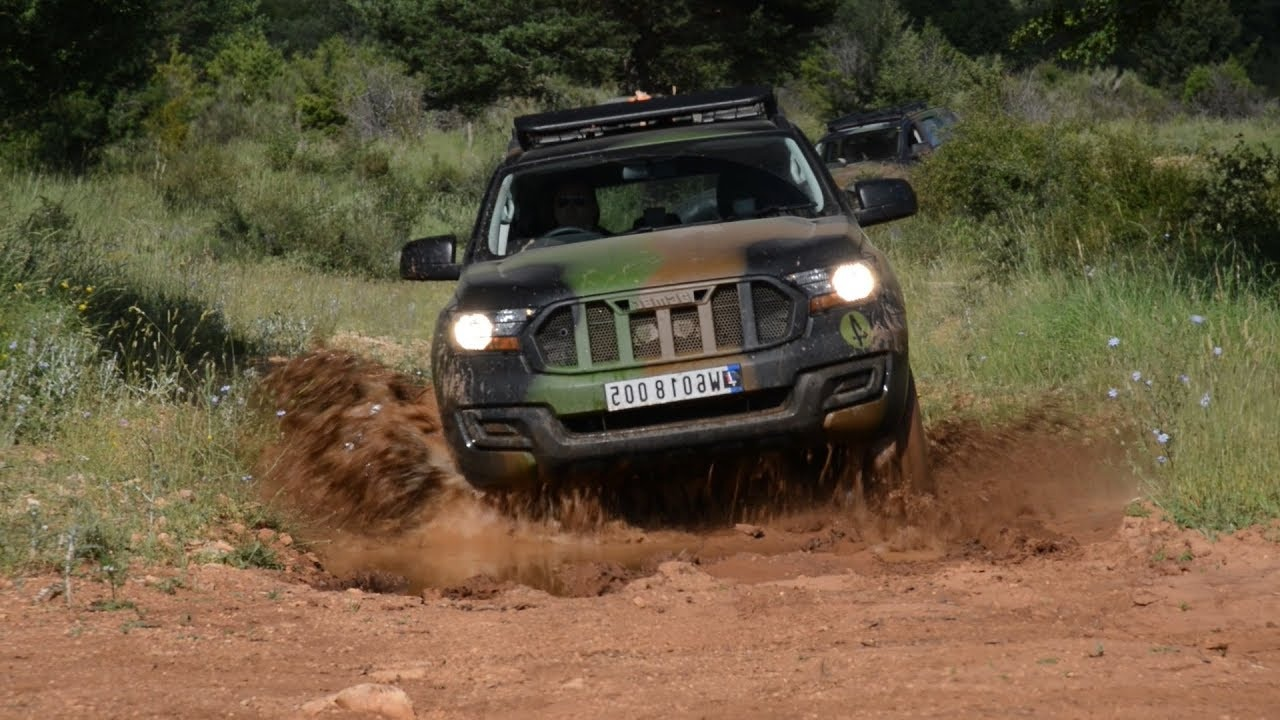license_plate: (605, 364, 742, 416)
